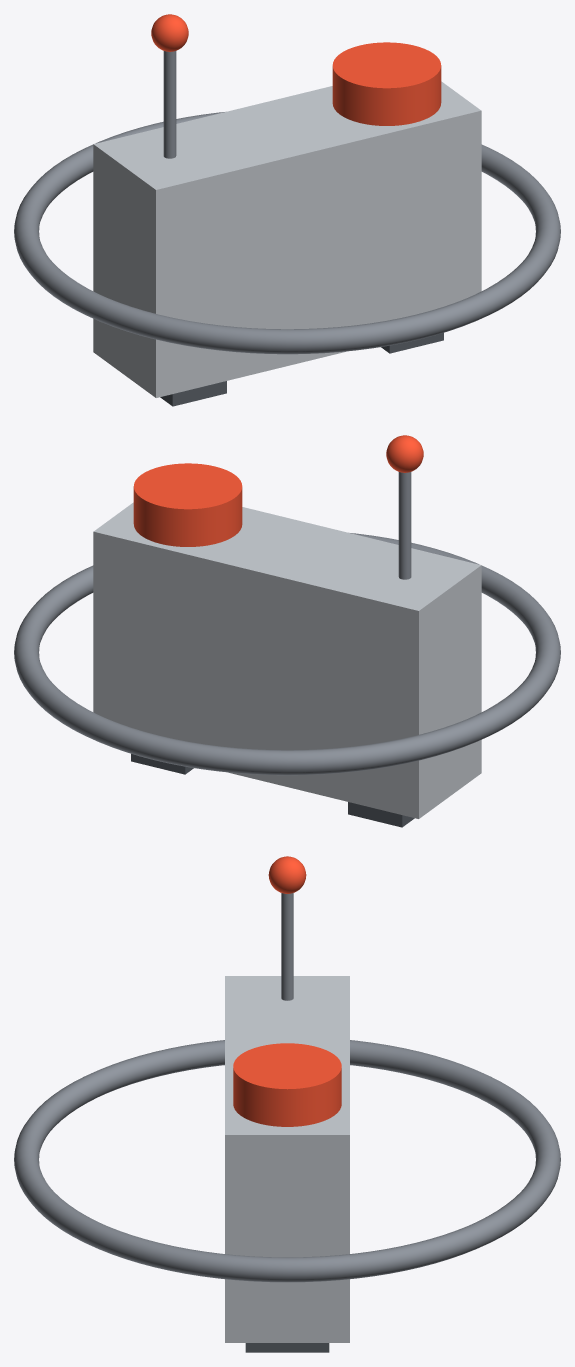
File: machine-meshopt.glb
The picture shows the model from 3 angles, top to bottom: view 1: azimuth 30°, elevation 25°; view 2: azimuth 150°, elevation 25°; view 3: azimuth 270°, elevation 25°; orthographic projection.
Parts seen in each view (by area): view 1: body, ring, dial, mast, tip, footL; view 2: body, ring, dial, mast, tip, footL; view 3: body, ring, dial, mast, tip, footR.
Part boxes in pixels (x1,y1,x2,y2): body: (93, 81, 481, 397); ring: (14, 112, 560, 354); dial: (332, 42, 441, 125); mast: (163, 51, 176, 158); tip: (151, 14, 188, 51); footL: (160, 381, 226, 406); body: (93, 502, 481, 818); ring: (14, 533, 560, 775); dial: (133, 463, 242, 546); mast: (398, 472, 411, 579); tip: (386, 435, 423, 472); footL: (348, 802, 414, 827); body: (225, 976, 349, 1342); ring: (14, 1040, 560, 1282); dial: (233, 1043, 341, 1126); mast: (281, 893, 293, 1000); tip: (268, 856, 306, 893); footR: (245, 1343, 329, 1352).
Size of the model in its own units: 2.62 by 1.96 by 2.62.
Materials: 3 (3 with a texture image).
